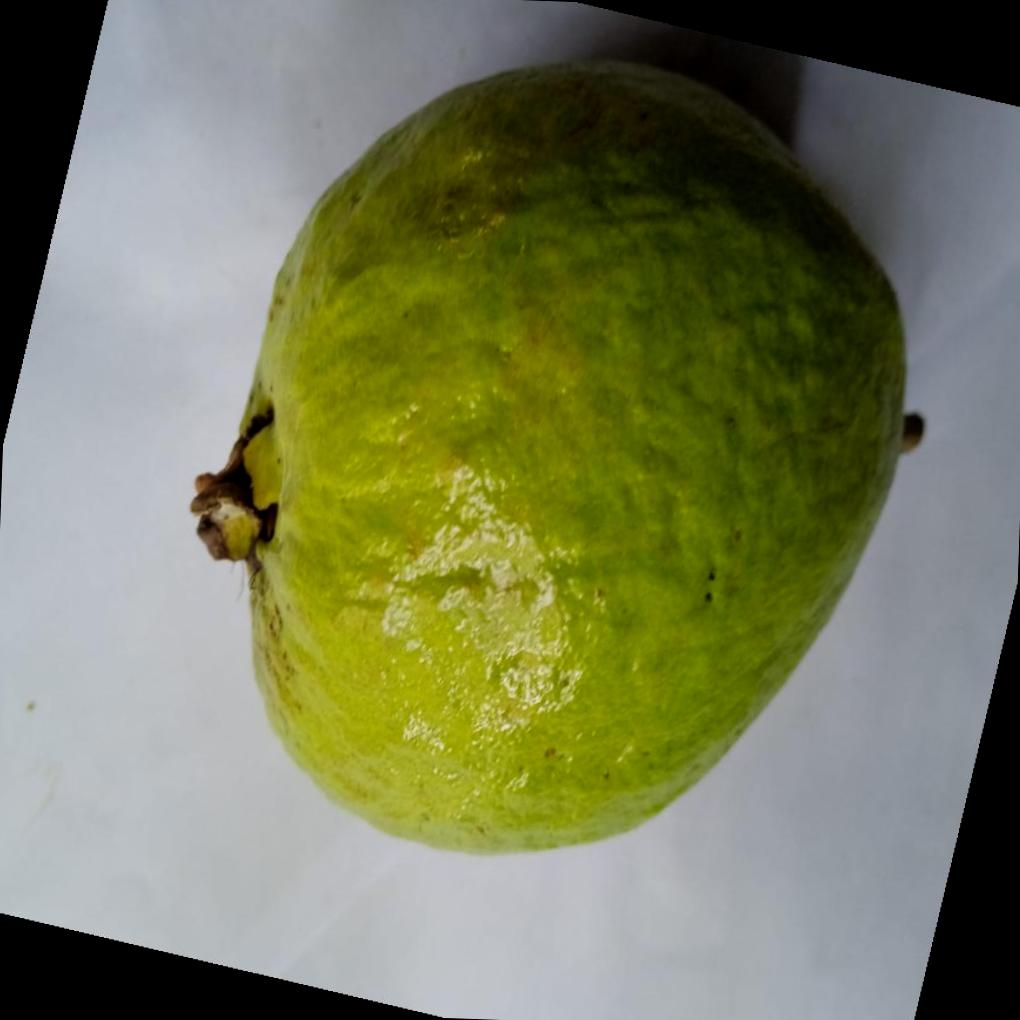FreshGuava: (188, 58, 922, 857)
